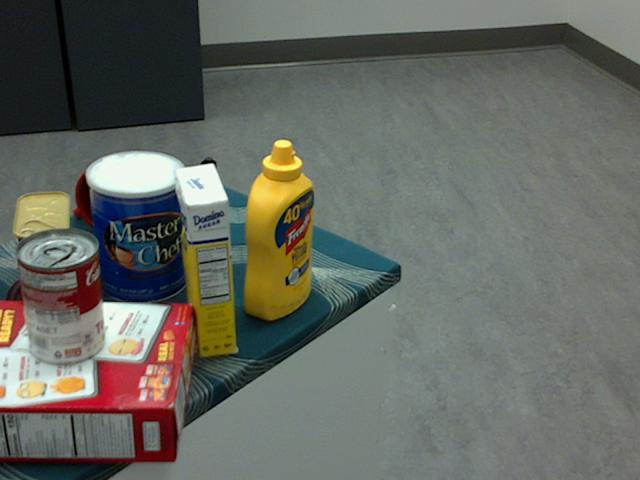cracker_box: (0, 297, 194, 462)
large_marker: (200, 156, 219, 250)
master_chef_can: (84, 150, 187, 305)
mug: (73, 152, 165, 237)
mustard_bottle: (242, 138, 314, 319)
potted_meat_can: (13, 190, 74, 299)
sugar_box: (175, 161, 236, 358)
tomato_soup_can: (15, 229, 104, 365)
tuna_fish_can: (6, 260, 99, 348)
